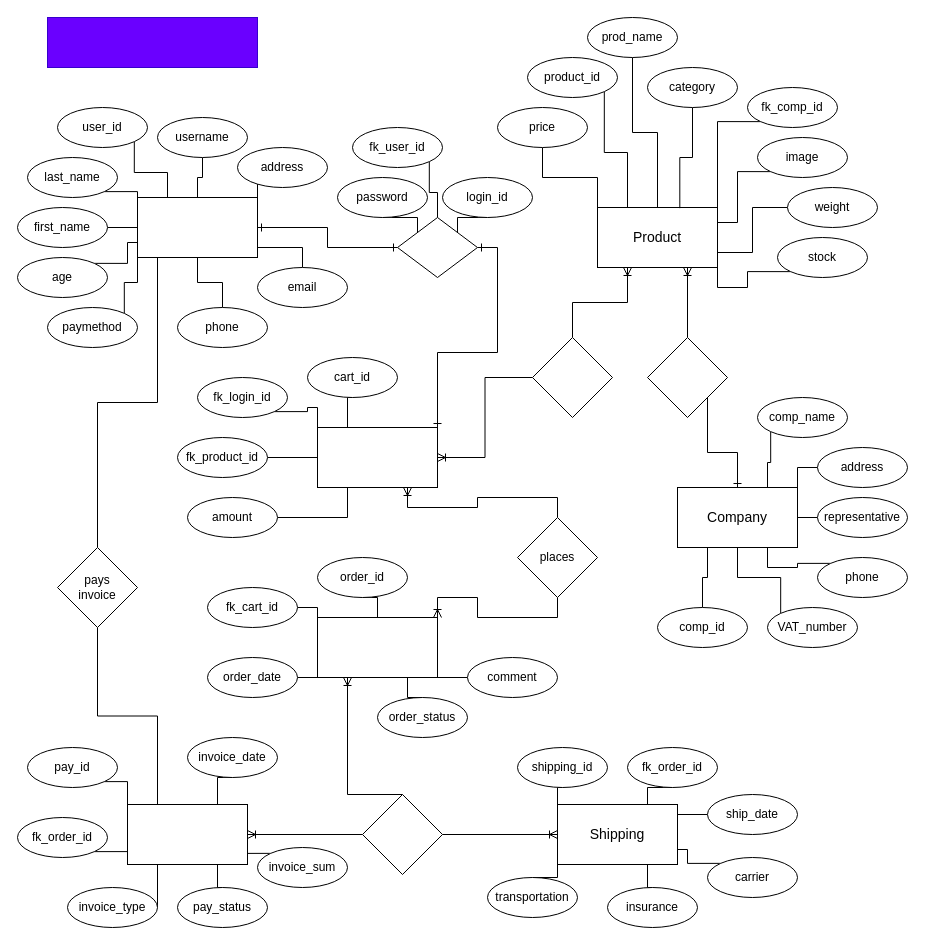
Image size: 925x945. Some labels were removed from this diagram. The centre of each missing label's shape, as x and y in pixels:
Customer: point (197, 227)
deploys: point (687, 377)
details: point (402, 834)
famazon.dot: point (152, 42)
lists: point (572, 377)
Login: point (437, 247)
Order: point (377, 647)
Payment: point (187, 834)
Website: point (377, 457)
